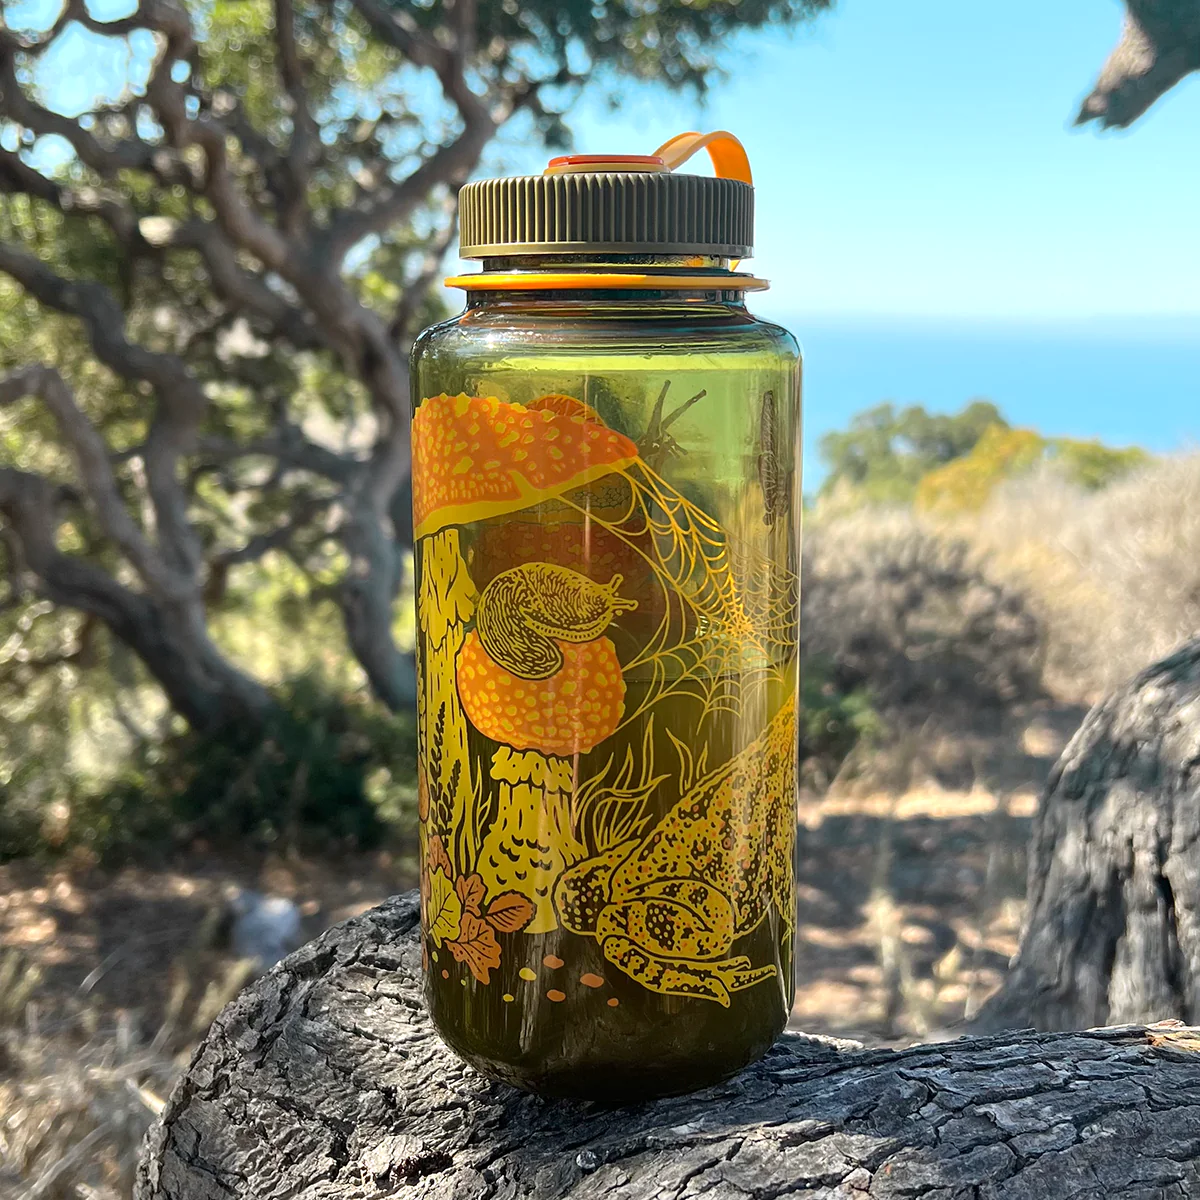bottle: (409, 129, 807, 1097)
